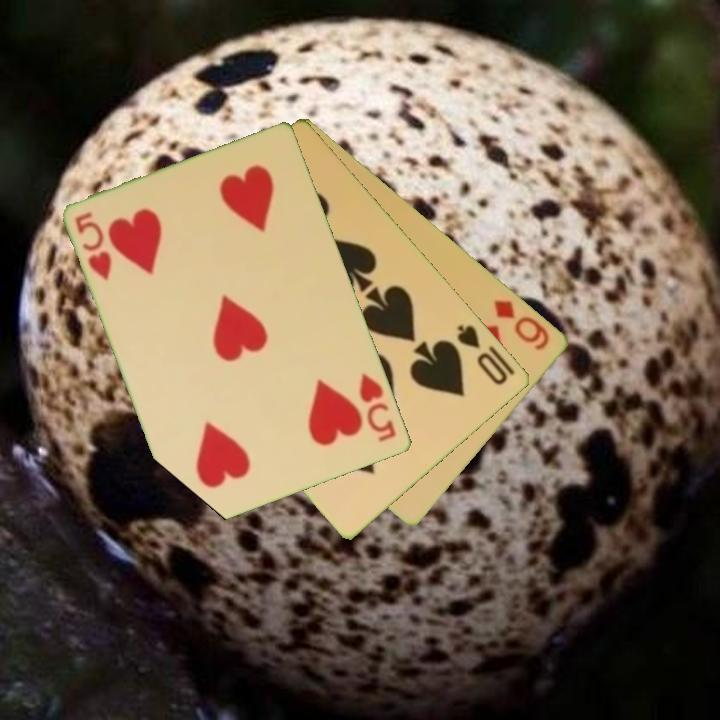10s: (454, 320, 519, 388)
5h: (71, 208, 116, 284), (356, 370, 400, 445)
6d: (491, 296, 553, 353)
